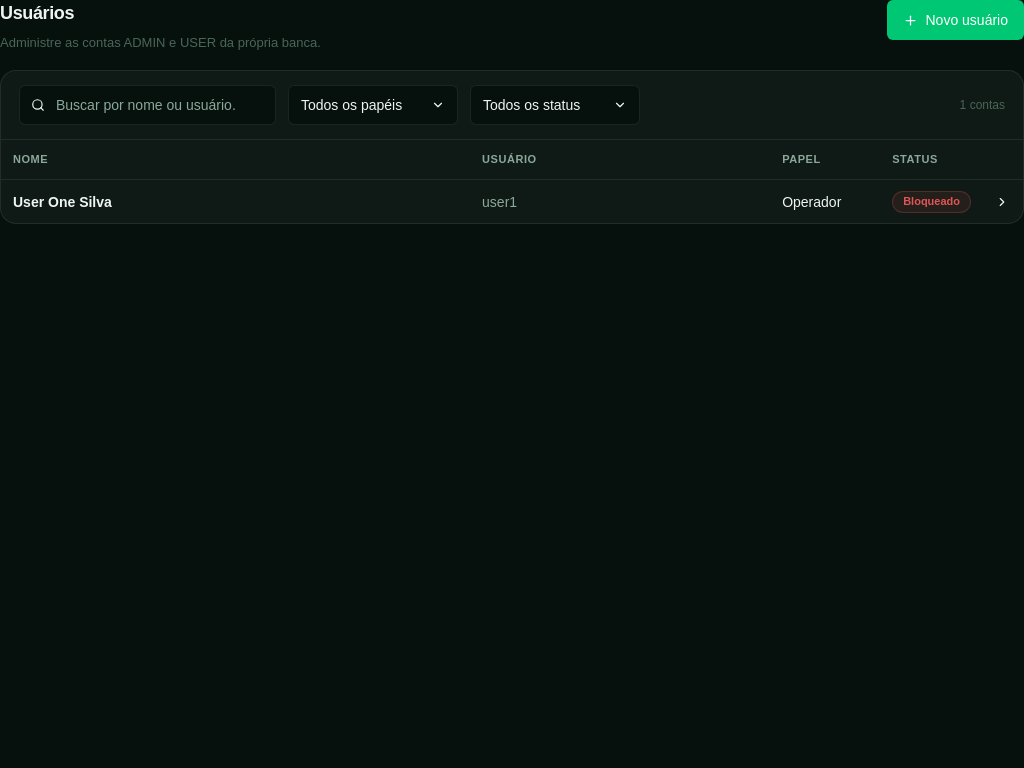
it: UsuariosSection — linha clicável/teclável abre o drawer de detalhe › abre em modo visualização (campos somente leitura, badge "Visualização") e permite entrar em edição
The image size is (1024, 768).
Step 1. Click the row named "abrir detalhes" → click(512, 201), box [1, 180, 1023, 223]
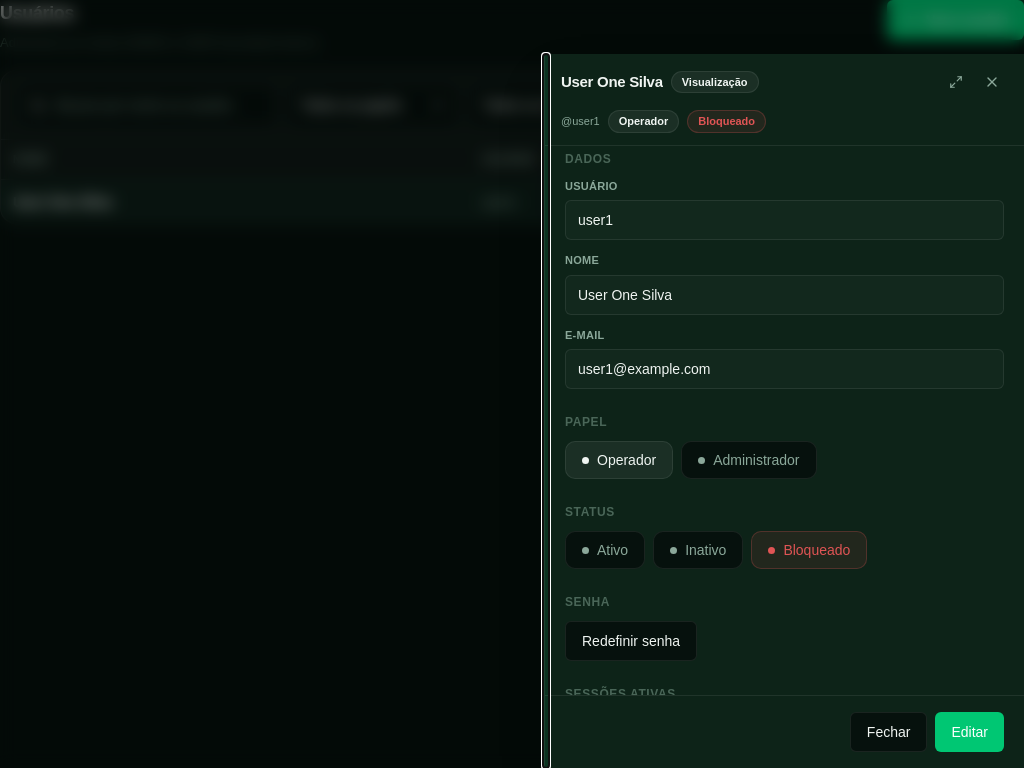
Expected: the text "Visualização" is shown, [671, 71, 758, 93]
Expected: the button "Editar" is shown
Step 2. Click the button "Editar" → click(970, 732), box [935, 712, 1004, 752]
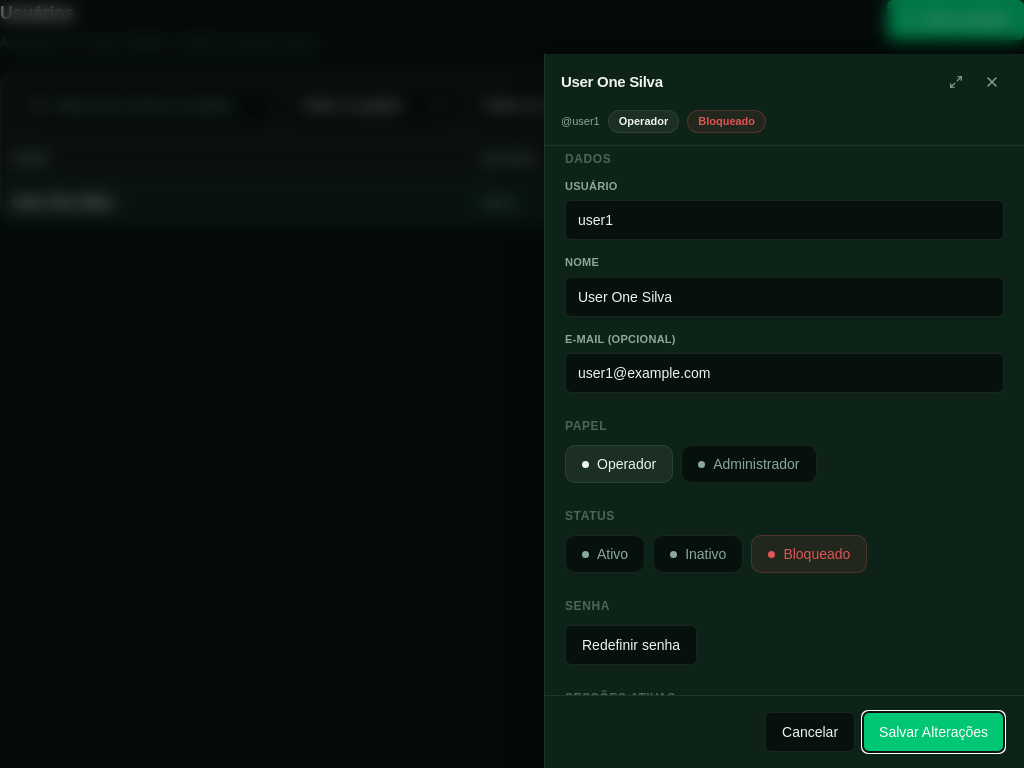
Expected: the field labelled "Nome" is shown
Expected: the text "Visualização" is gone
// Cancelar (não "Fechar") descarta a edição e volta para o modo visualização sem fechar o painel.
Step 3. Replace the text in the field labelled "Nome" with "Nome Alterado" → (784, 296), box [565, 276, 1004, 316]
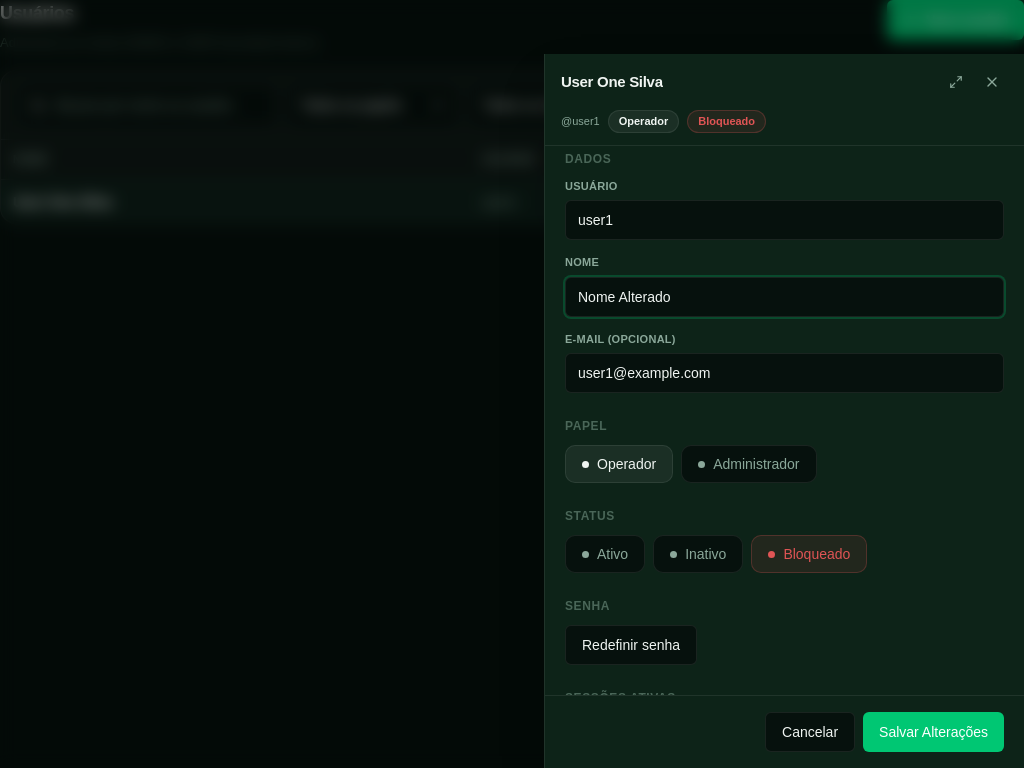
Expected: the button "Fechar" is not shown
Step 4. Click the button "Cancelar" → click(810, 732), box [765, 712, 855, 752]
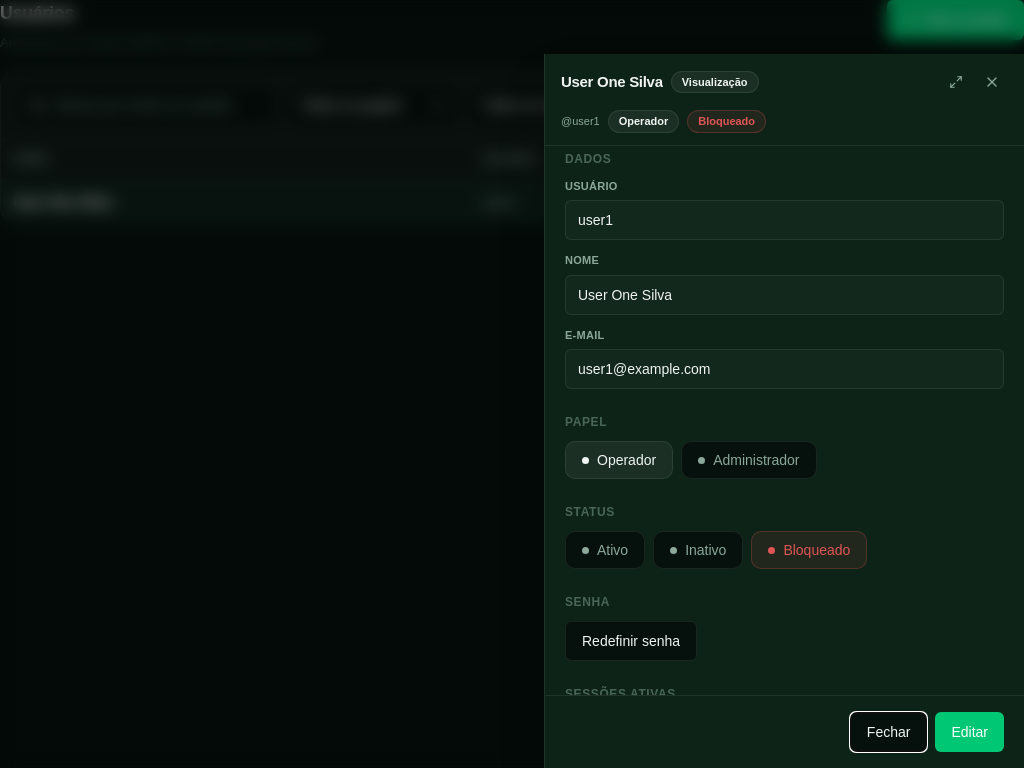
Expected: the text "Visualização" is shown, [671, 71, 758, 93]
